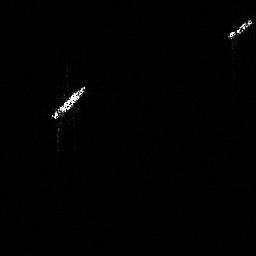ship: (49, 81, 91, 123), (225, 15, 255, 42)
